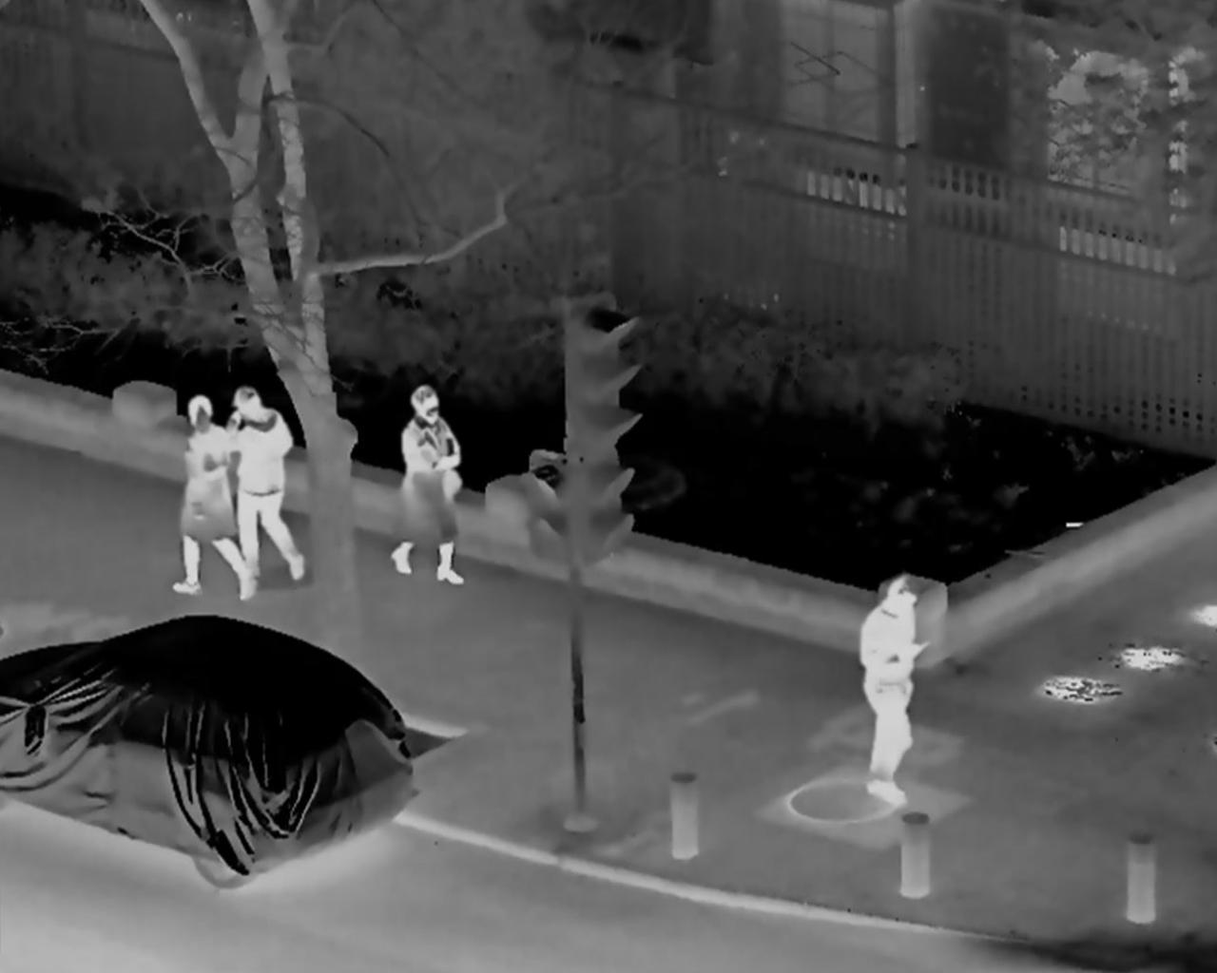person: (388, 386, 473, 586), (168, 393, 252, 594), (224, 387, 309, 582), (858, 575, 919, 812)
